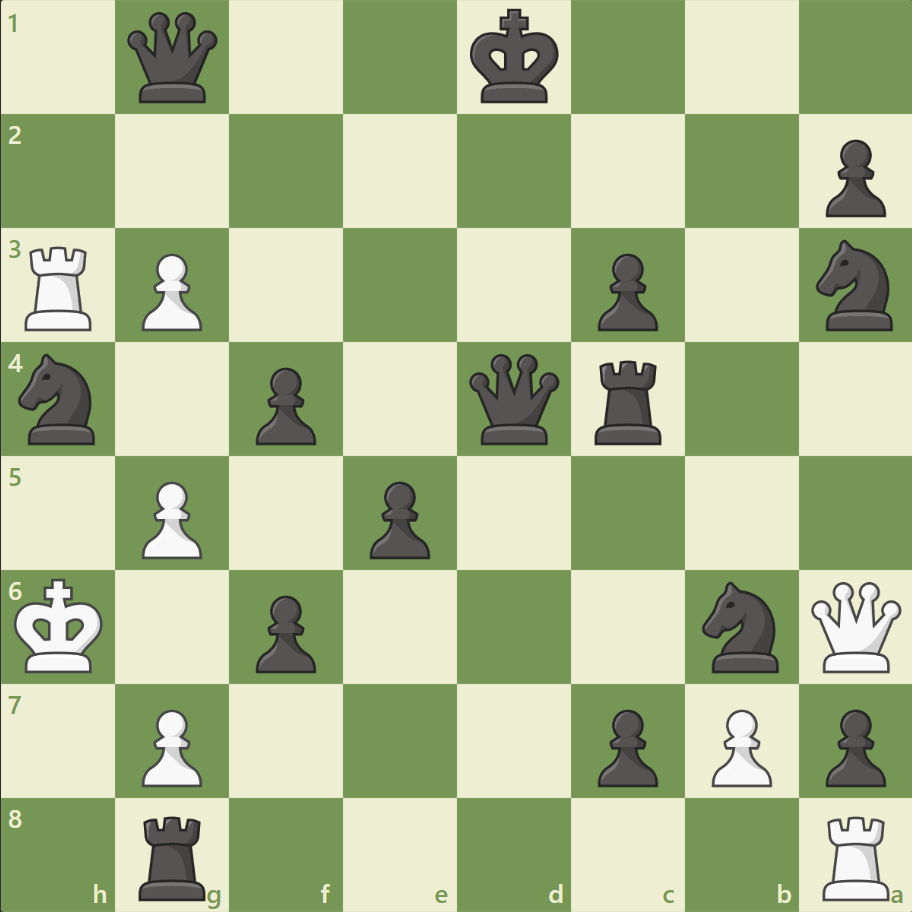K: (11, 571, 111, 679)
P: (701, 700, 776, 791), (133, 700, 208, 791), (133, 473, 208, 564), (133, 246, 208, 337)
Q: (805, 576, 904, 676)
R: (814, 806, 897, 904), (19, 239, 102, 336)
k: (465, 4, 565, 112)
n: (806, 234, 903, 337), (692, 575, 789, 677), (11, 348, 108, 450)
p: (247, 586, 322, 677), (247, 359, 322, 450), (815, 700, 889, 791), (588, 700, 662, 791), (361, 473, 435, 564), (588, 246, 662, 337), (815, 132, 889, 223)
q: (464, 349, 563, 449), (124, 9, 223, 108)
r: (587, 352, 670, 449), (133, 806, 215, 904)
